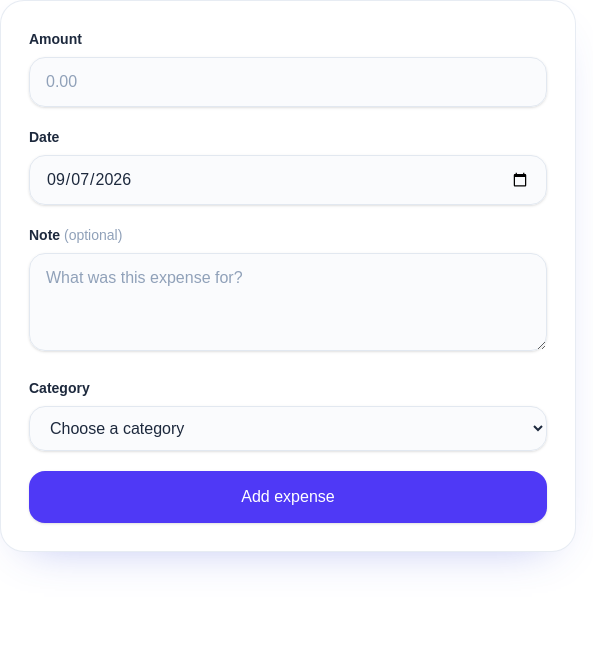
Test: AddExpenseForm › submits valid expense data successfully
This screenshot has width=593, height=652.
Type "24.50" into the number field labelled "Amount".
click(288, 82); type("24.50")  # box [29,57,547,107]
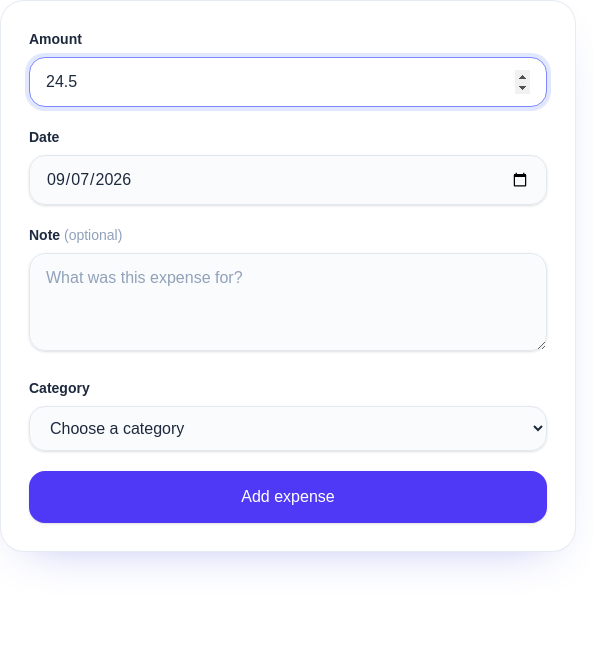
Select "Food" in the dropdown labelled "Category" at (288,428), box [29,406,547,451]
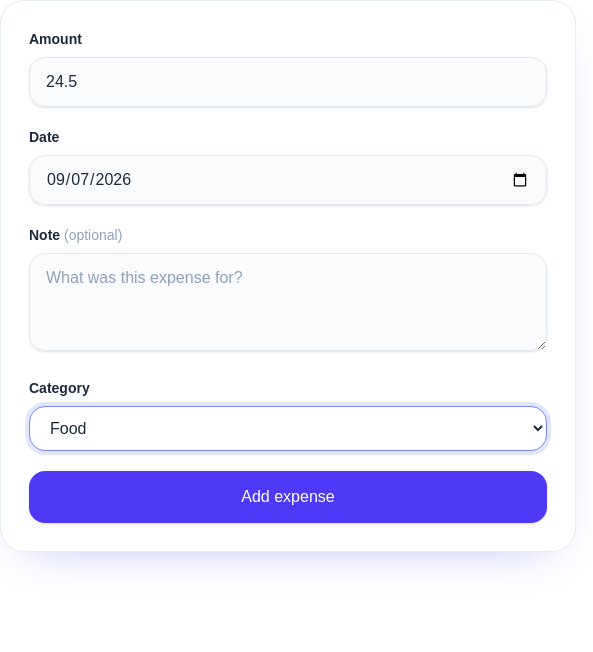
Click the button "Add expense".
click(288, 497)  # box [29,471,547,523]
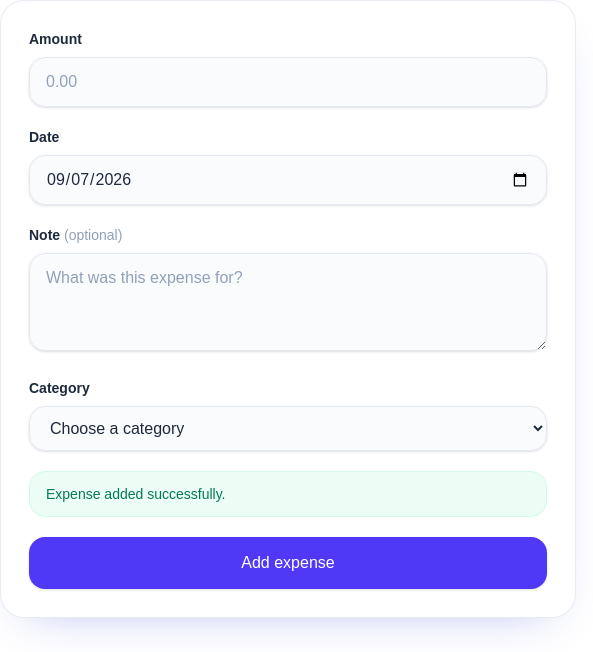
Check: the message shows "Expense added successfully", box [46,486,226,502]
